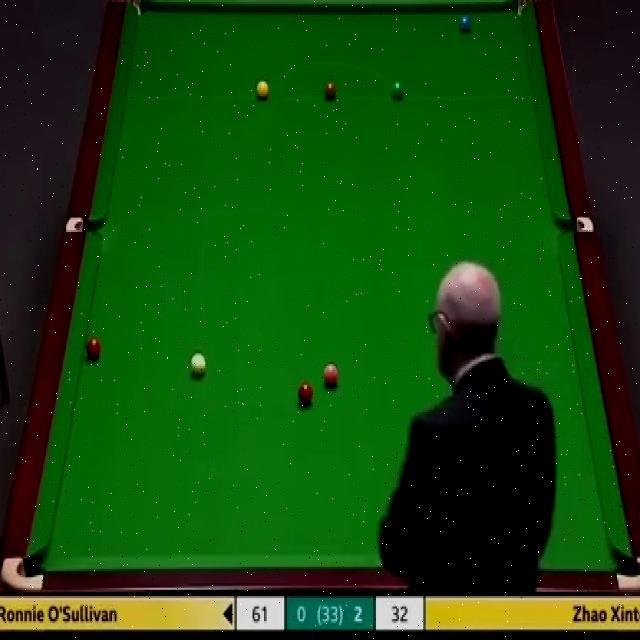blue-ball: (457, 14, 473, 34)
brown-ball: (323, 82, 337, 98)
green-ball: (391, 78, 405, 102)
pink-ball: (322, 363, 337, 388)
red-ball: (86, 336, 102, 360), (297, 381, 313, 404)
white-ball: (190, 352, 206, 377)
yellow-ball: (255, 79, 270, 100)
